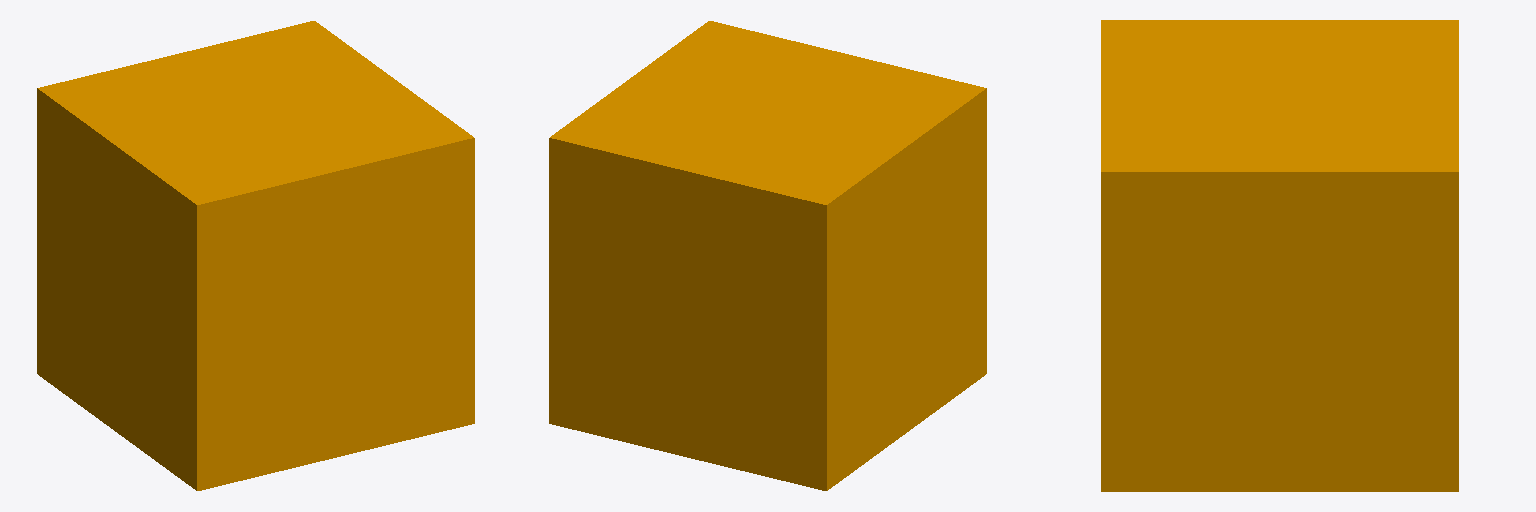
URDF robot description (2v2_test_hand_cuboid_small):
<?xml version="1.0" ?>
<robot name="2v2_test_hand_cuboid_small">

    <link name="2v2_test_hand_cuboid_small">
        <visual>
            <origin rpy="1.5707963267948966 0 0" xyz="0 0 0"/>
            <geometry>
                <mesh filename="obj_files/2v2_test_hand_cuboid_small.obj" scale="1 1 1"/>
            </geometry>
        </visual>
        <collision>
            <geometry>
                <mesh filename="obj_files/2v2_test_hand_cuboid_small_collision.obj" scale="1 1 1"/>
            </geometry>
        </collision>
    </link>

</robot>

--- Facts derived from the render (not from the file) ---
3 views of the same robot in one strip: view 1: azimuth 30°, elevation 25°; view 2: azimuth 150°, elevation 25°; view 3: azimuth 270°, elevation 25° (orthographic).
Robot: 2v2_test_hand_cuboid_small — 1 links, 0 joints (none); root link 2v2_test_hand_cuboid_small; default pose: all joints at 0.
Visible links, largest first — view 1: 2v2_test_hand_cuboid_small; view 2: 2v2_test_hand_cuboid_small; view 3: 2v2_test_hand_cuboid_small.
Boxes of the visible links, x1=… form: 2v2_test_hand_cuboid_small: x1=37, y1=21, x2=474, y2=490; 2v2_test_hand_cuboid_small: x1=549, y1=21, x2=986, y2=490; 2v2_test_hand_cuboid_small: x1=1101, y1=20, x2=1458, y2=491.
Size in the robot's own frame: 0.0609 by 0.0609 by 0.06 metres.
Meshes: 1 distinct files referenced, 1 mesh visuals loaded (1 OBJ).